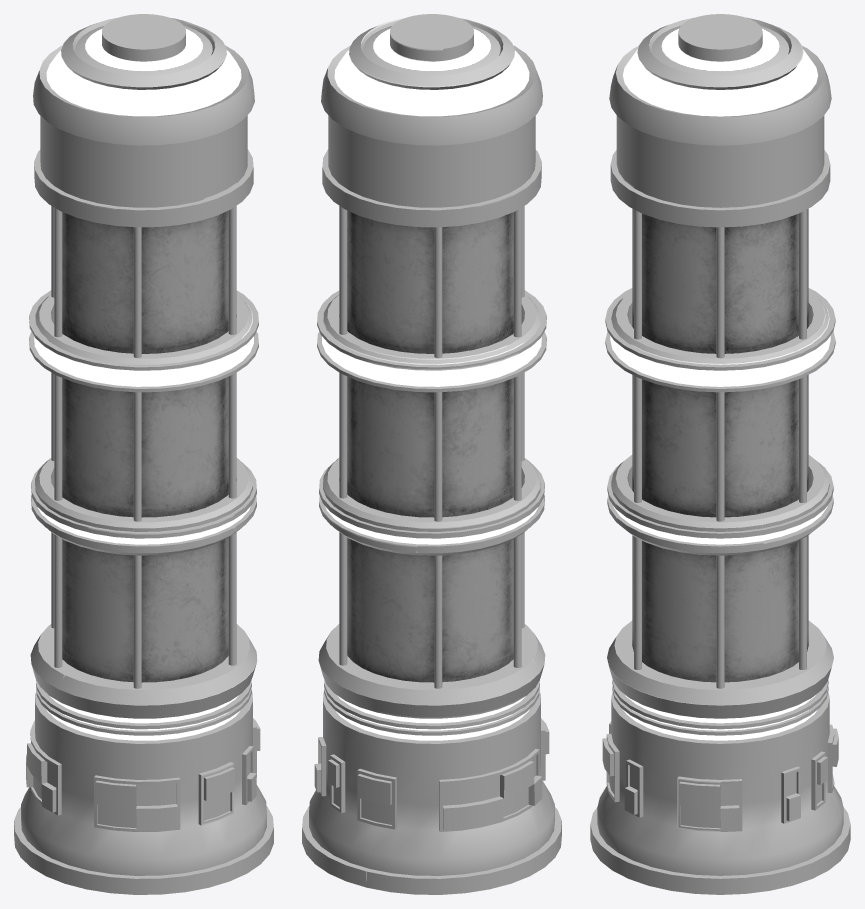
Rendered from SM_Column1.fbx.
The picture shows the model from 3 angles, left to right: view 1: azimuth 30°, elevation 25°; view 2: azimuth 150°, elevation 25°; view 3: azimuth 270°, elevation 25°; orthographic projection.
Parts seen in each view (by area): view 1: SM_Column1_LOD0; view 2: SM_Column1_LOD0; view 3: SM_Column1_LOD0.
Part boxes in pixels (x1,y1,x2,y2): SM_Column1_LOD0: [14, 14, 273, 894]; SM_Column1_LOD0: [302, 14, 561, 894]; SM_Column1_LOD0: [590, 14, 850, 894].
Size of the model in its own units: 144 by 494 by 144.
